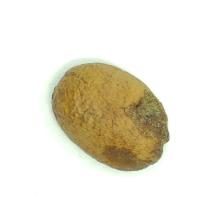NG: (106, 88, 170, 172)
